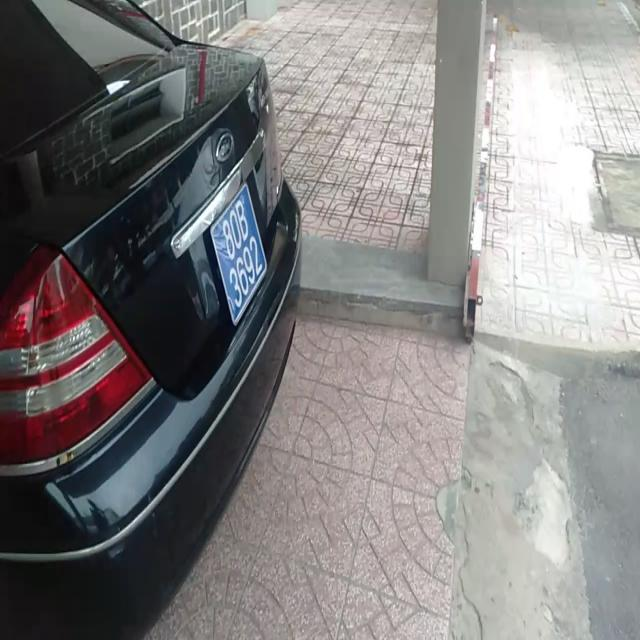bien_xanh: (210, 178, 269, 323)
